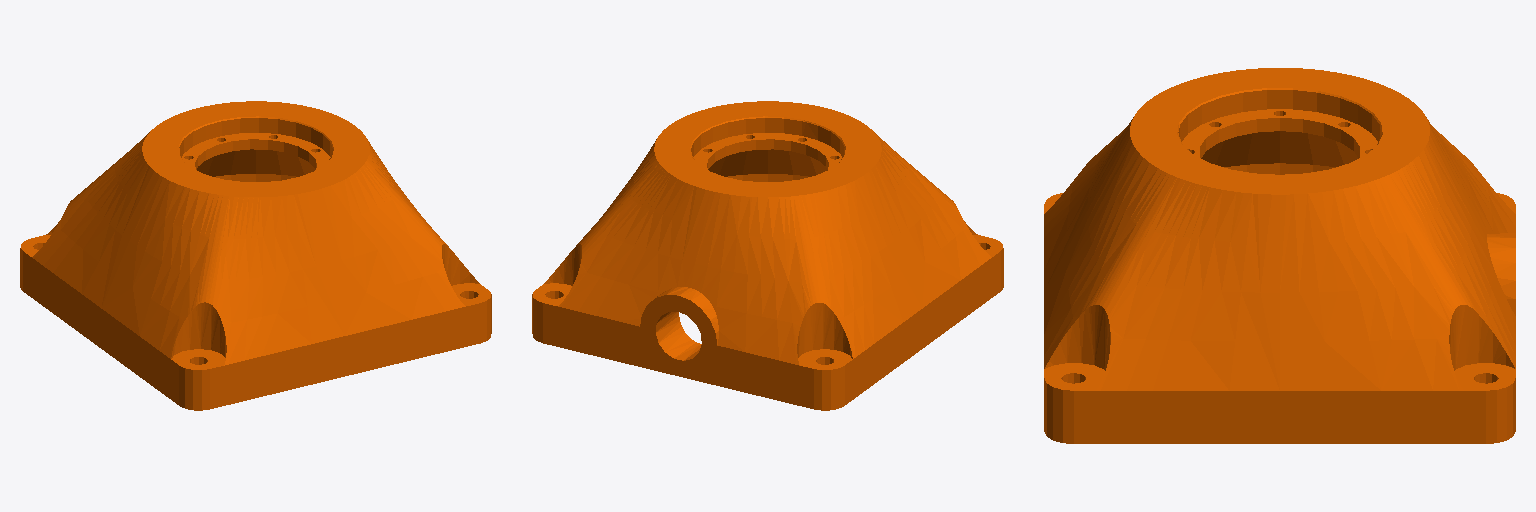
robot.urdf — test:
<?xml version="1.0" encoding="utf-8"?>
<!-- This URDF was automatically created by SolidWorks to URDF Exporter! Originally created by Stephen Brawner (brawner@gmail.com) 
     Commit Version: 1.5.1-0-g916b5db  Build Version: 1.5.7152.31018
     For more information, please see http://wiki.ros.org/sw_urdf_exporter -->
<robot
  name="test">
  <link
    name="base_link">
    <inertial>
      <origin
        xyz="-5.8924E-08 -0.0006072 0.032465"
        rpy="0 0 0" />
      <mass
        value="0.72607" />
      <inertia
        ixx="0.0021454"
        ixy="-1.6256E-09"
        ixz="1.7597E-09"
        iyy="0.0021752"
        iyz="-7.8447E-06"
        izz="0.003573" />
    </inertial>
    <visual>
      <origin
        xyz="0 0 0"
        rpy="0 0 0" />
      <geometry>
        <mesh
          filename="package://test/meshes/base_link.STL" />
      </geometry>
      <material
        name="">
        <color
          rgba="0.9098 0.44314 0.031373 1" />
      </material>
    </visual>
    <collision>
      <origin
        xyz="0 0 0"
        rpy="0 0 0" />
      <geometry>
        <mesh
          filename="package://test/meshes/base_link.STL" />
      </geometry>
    </collision>
  </link>
  <link
    name="1">
    <inertial>
      <origin
        xyz="0.00013272 0.0026468 0.13601"
        rpy="0 0 0" />
      <mass
        value="0.70663" />
      <inertia
        ixx="0.0014127"
        ixy="-1.8712E-06"
        ixz="-8.5642E-08"
        iyy="0.0013617"
        iyz="1.5733E-05"
        izz="0.0010735" />
    </inertial>
    <visual>
      <origin
        xyz="0 0 0"
        rpy="0 0 0" />
      <geometry>
        <mesh
          filename="package://test/meshes/1.STL" />
      </geometry>
      <material
        name="">
        <color
          rgba="0.25098 0.25098 0.25098 1" />
      </material>
    </visual>
    <collision>
      <origin
        xyz="0 0 0"
        rpy="0 0 0" />
      <geometry>
        <mesh
          filename="package://test/meshes/1.STL" />
      </geometry>
    </collision>
  </link>
  <joint
    name="j1"
    type="revolute">
    <origin
      xyz="0 0 0"
      rpy="0 0 0" />
    <parent
      link="base_link" />
    <child
      link="1" />
    <axis
      xyz="0 0 1" />
    <limit
      lower="-2.5"
      upper="2.5"
      effort="1000"
      velocity="0.5" />
  </joint>
  <link
    name="2">
    <inertial>
      <origin
        xyz="-0.0019499 0.0065023 -0.0014233"
        rpy="0 0 0" />
      <mass
        value="0.70663" />
      <inertia
        ixx="0.0013739"
        ixy="-2.7018E-05"
        ixz="-2.3177E-05"
        iyy="0.0010753"
        iyz="-6.6817E-06"
        izz="0.0013986" />
    </inertial>
    <visual>
      <origin
        xyz="0 0 0"
        rpy="0 0 0" />
      <geometry>
        <mesh
          filename="package://test/meshes/2.STL" />
      </geometry>
      <material
        name="">
        <color
          rgba="0.25098 0.25098 0.25098 1" />
      </material>
    </visual>
    <collision>
      <origin
        xyz="0 0 0"
        rpy="0 0 0" />
      <geometry>
        <mesh
          filename="package://test/meshes/2.STL" />
      </geometry>
    </collision>
  </link>
  <joint
    name="j2"
    type="revolute">
    <origin
      xyz="0.0049033 0.11079 0.1296"
      rpy="0 0 0" />
    <parent
      link="1" />
    <child
      link="2" />
    <axis
      xyz="0.044214 0.99902 0" />
    <limit
      lower="-2.5"
      upper="2.5"
      effort="1000"
      velocity="0.5" />
  </joint>
</robot>

--- Render facts (derived) ---
The picture shows the robot from 3 angles, left to right: view 1: azimuth 30°, elevation 25°; view 2: azimuth 150°, elevation 25°; view 3: azimuth 270°, elevation 25°; orthographic projection.
Model test with 3 links and 2 joints (2 revolute), rooted at base_link, posed all joints at 0.
Links seen in each view (by area): view 1: base_link; view 2: base_link; view 3: base_link.
Link boxes in pixels (left/top/right/bottom): base_link: left=20, top=101, right=491, bottom=410; base_link: left=532, top=101, right=1003, bottom=410; base_link: left=1044, top=68, right=1515, bottom=443.
Bounding box of the posed robot: 0.16 × 0.16 × 0.1097 m (x, y, z).
2 mesh visuals loaded from 3 distinct referenced files (2 binary STL); not drawn: 1 (reference not matched to a file when rendering).
